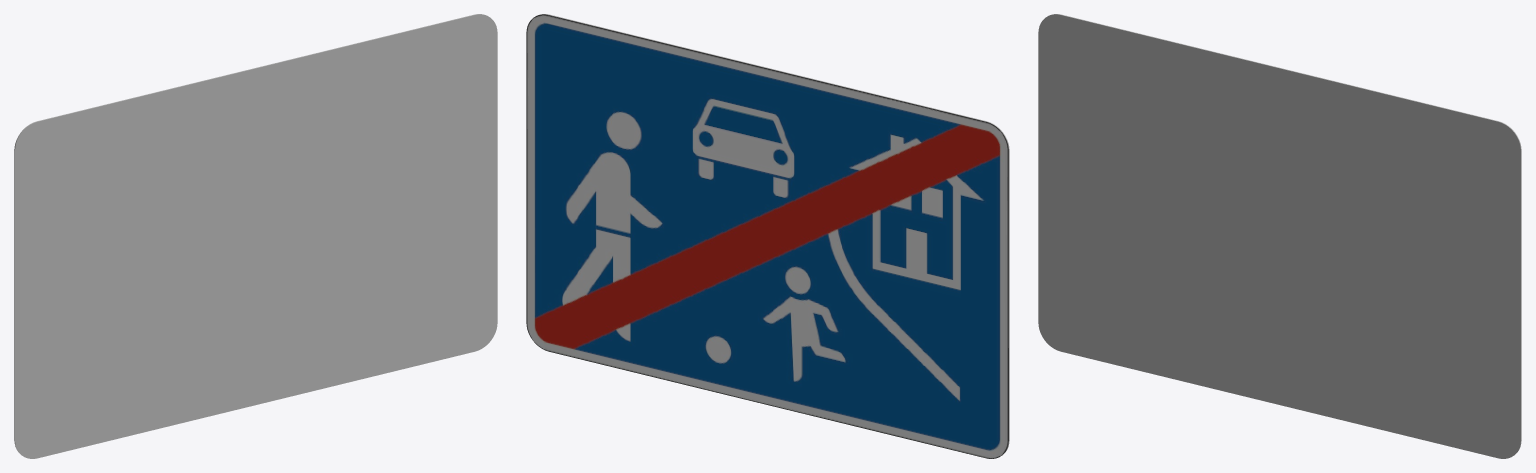
3 renders of one model, left to right at view 1: azimuth 30°, elevation 25°; view 2: azimuth 150°, elevation 25°; view 3: azimuth 330°, elevation 25°, orthographic.
Parts seen in each view (by area): view 1: Plane; view 2: Plane; view 3: Plane.
Boxes of the visible parts, <box> form: Plane: <box>14,14,497,458</box>; Plane: <box>526,14,1009,458</box>; Plane: <box>1038,14,1521,458</box>.
Bounding box in the file's own units: 0.9 × 0.6 × 0.002.
2 materials, 1 textured.
